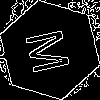M: (25, 25, 80, 76)
